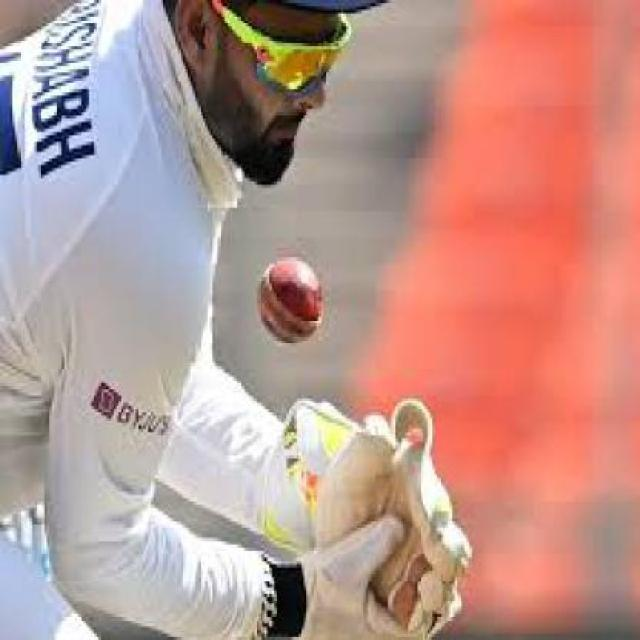ball: (238, 239, 342, 363)
